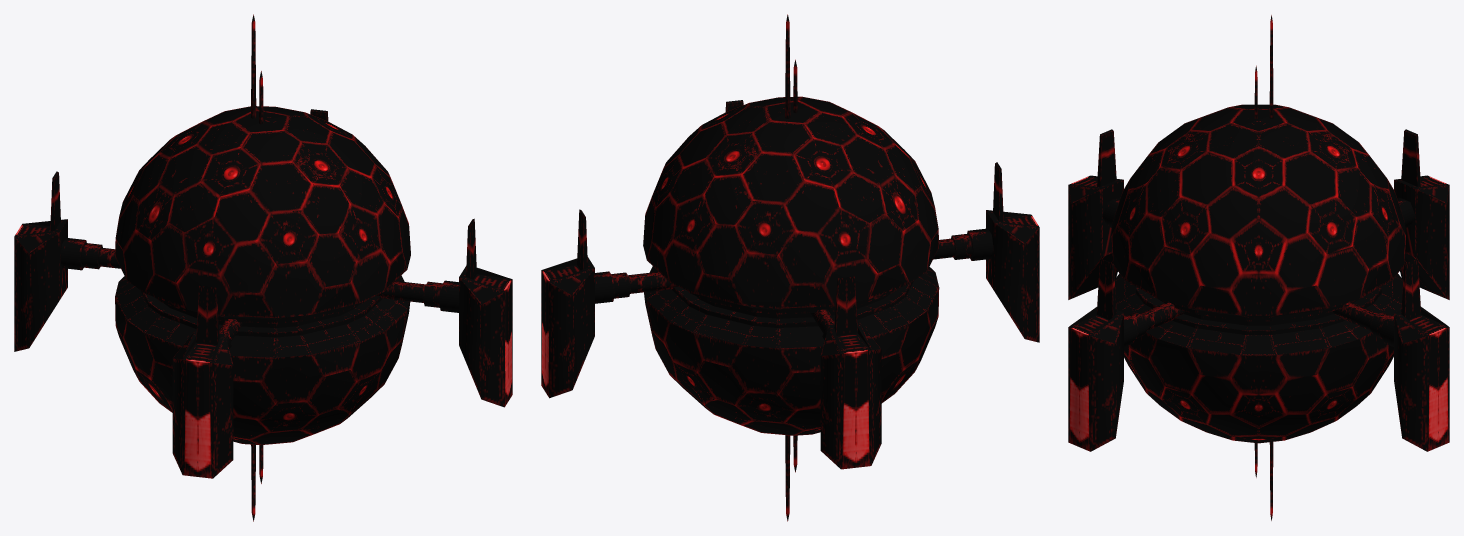
File: beholder.fbx
The picture shows the model from 3 angles, left to right: view 1: azimuth 30°, elevation 25°; view 2: azimuth 150°, elevation 25°; view 3: azimuth 270°, elevation 25°; orthographic projection.
Parts seen in each view (by area): view 1: Beholder; view 2: Beholder; view 3: Beholder.
Boxes of the visible parts, left/top/right/bottom form: Beholder: left=14, top=14, right=512, bottom=521; Beholder: left=541, top=14, right=1039, bottom=521; Beholder: left=1068, top=15, right=1449, bottom=520.
Bounding box in the file's own units: 2820 × 2820 × 4145.
Materials: 1 (1 with a texture image).
